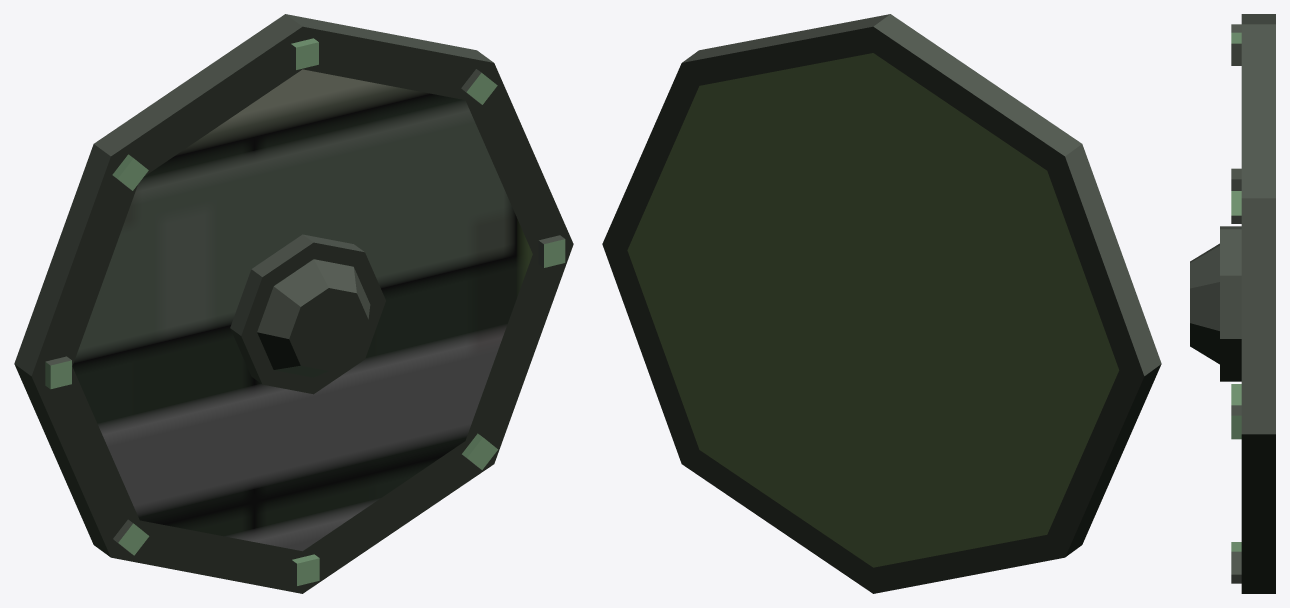
The model's file is SF_Wep_RoundShield_Symbol_04.glb.
The picture shows the model from 3 angles, left to right: view 1: azimuth 30°, elevation 25°; view 2: azimuth 150°, elevation 25°; view 3: azimuth 270°, elevation 25°; orthographic projection.
Parts seen in each view (by area): view 1: SF_Wep_RoundShield_Symbol_04; view 2: SF_Wep_RoundShield_Symbol_04; view 3: SF_Wep_RoundShield_Symbol_04.
Boxes of the visible parts, x1,y1,x2,y2 form: SF_Wep_RoundShield_Symbol_04: [14, 14, 573, 593]; SF_Wep_RoundShield_Symbol_04: [602, 14, 1161, 593]; SF_Wep_RoundShield_Symbol_04: [1190, 14, 1275, 593].
Bounding box in the file's own units: 0.014 × 0.014 × 0.00195.
1 material, 1 textured.
